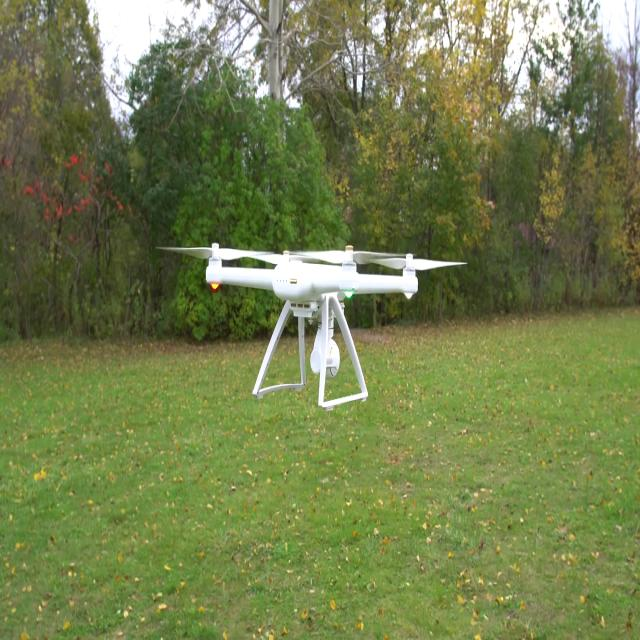drone: (151, 228, 471, 338)
